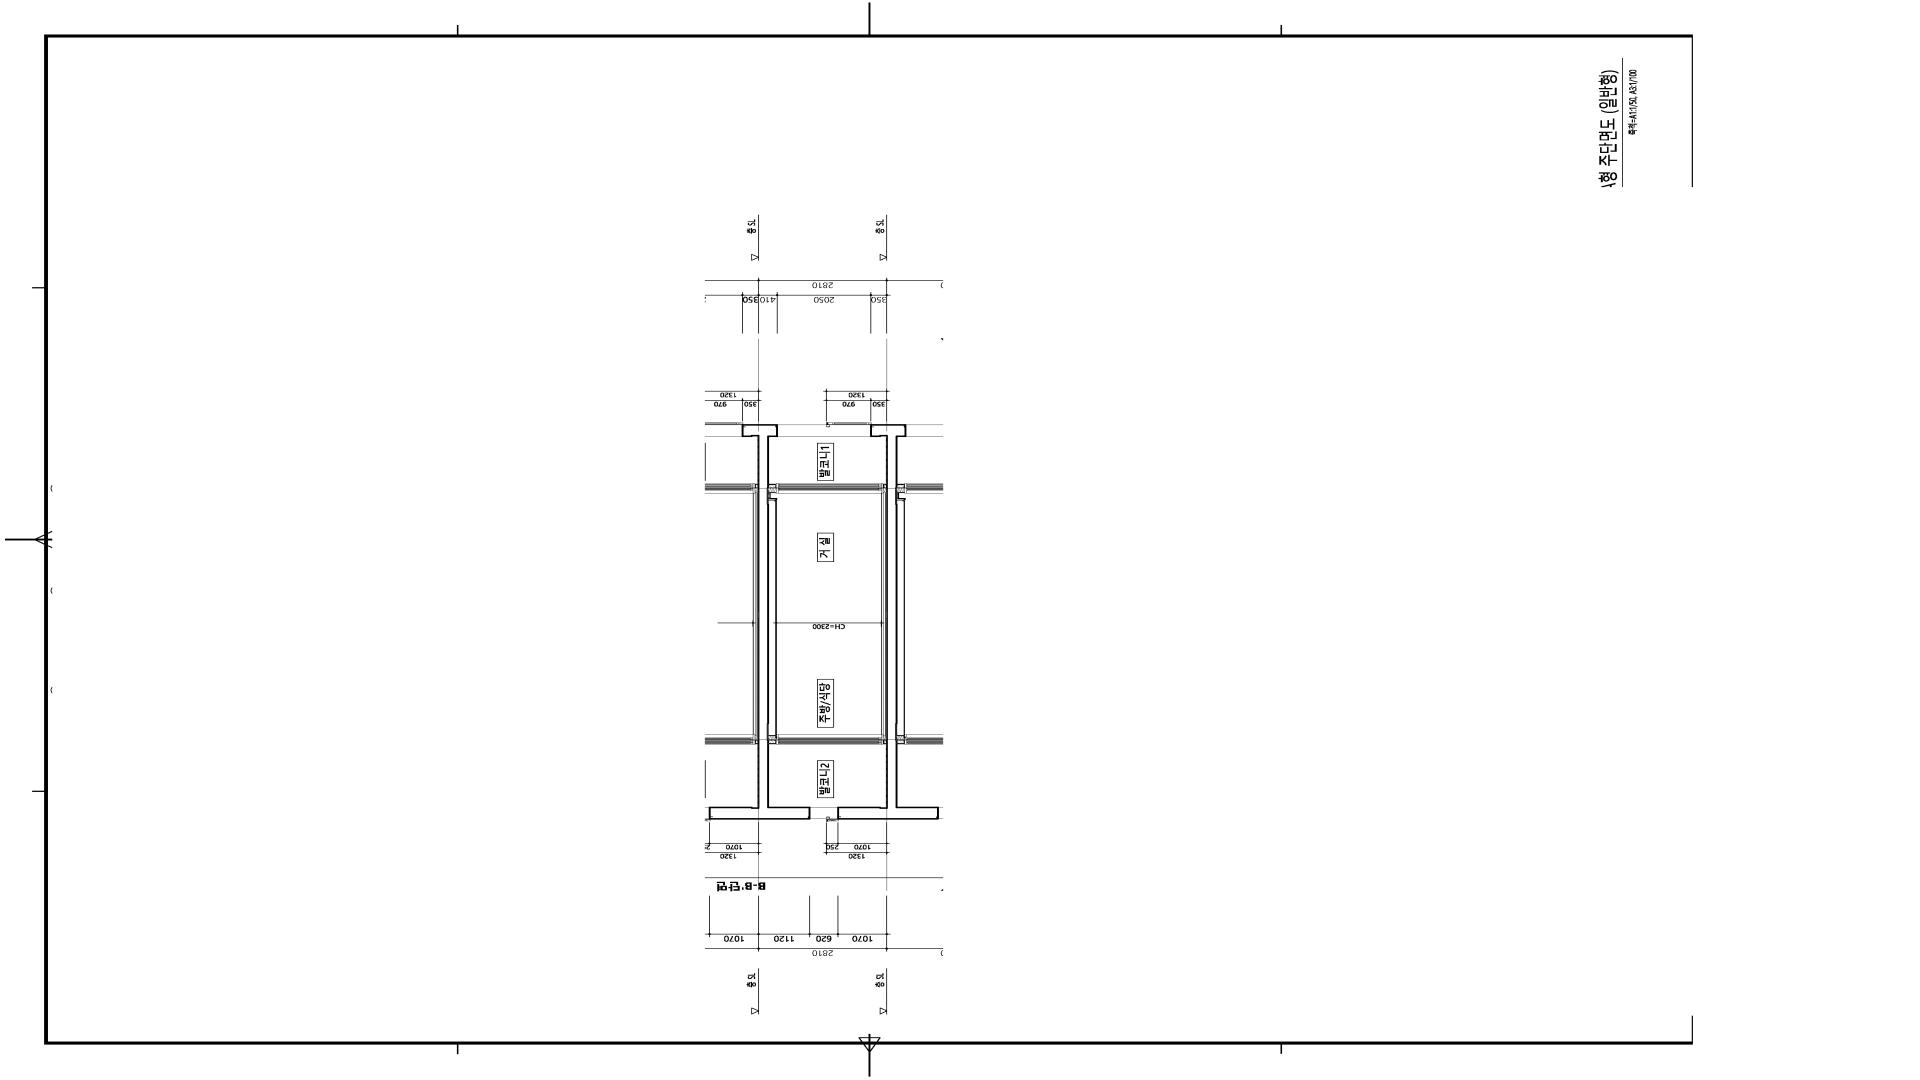background: (0, 0, 1920, 1080)
wall: (839, 425, 898, 820), (757, 425, 810, 820), (769, 484, 777, 488), (769, 740, 777, 744), (884, 740, 886, 744), (884, 484, 886, 488)
window: (778, 422, 870, 436), (777, 735, 884, 745), (777, 483, 884, 493), (811, 807, 839, 822)
